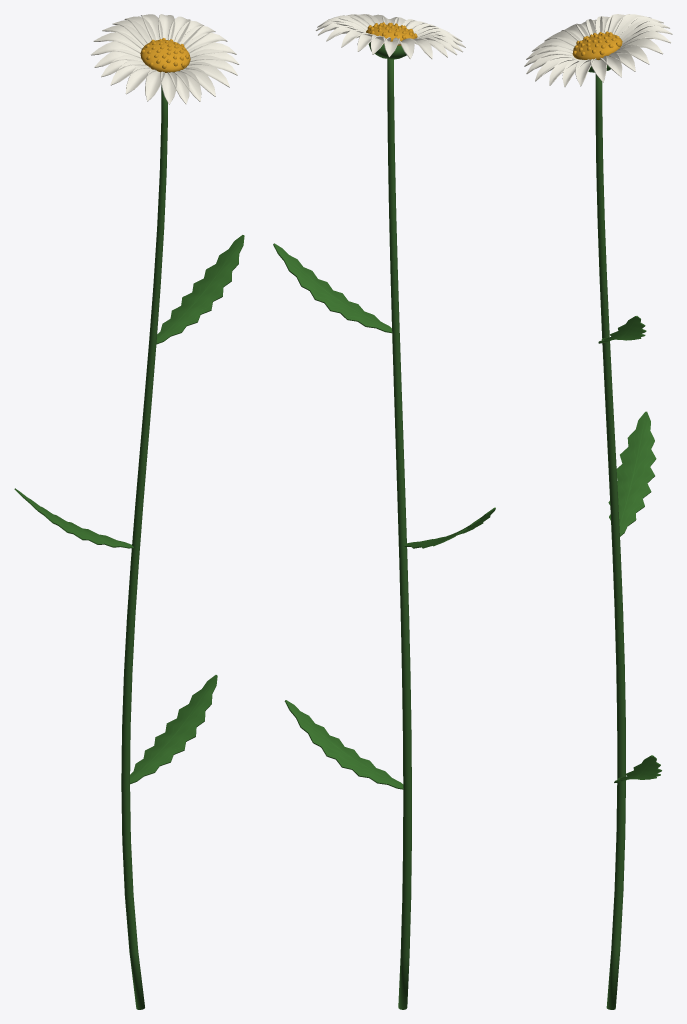
The model's file is daisy.glb.
3 renders of one model, left to right at view 1: azimuth 30°, elevation 25°; view 2: azimuth 150°, elevation 25°; view 3: azimuth 270°, elevation 25°, orthographic.
Parts seen in each view (by area): view 1: Cut stem, Daisy small stalk leaf 1, Daisy small stalk leaf 3, Daisy small stalk leaf 2, Daisy Composite convex disc receptacle; view 2: Cut stem, Daisy small stalk leaf 3, Daisy small stalk leaf 1, Daisy small stalk leaf 2; view 3: Cut stem, Daisy small stalk leaf 2, Daisy Composite convex disc receptacle, Daisy small stalk leaf 1, Daisy small stalk leaf 3.
Boxes of the visible parts, x1,y1,x2,y2 form: Cut stem: (121,85,167,1009); Daisy small stalk leaf 1: (130,675,217,784); Daisy small stalk leaf 3: (156,235,244,344); Daisy small stalk leaf 2: (14,488,133,548); Daisy Composite convex disc receptacle: (140,40,190,72); Cut stem: (387,59,411,1009); Daisy small stalk leaf 3: (273,243,392,333); Daisy small stalk leaf 1: (284,700,403,789); Daisy small stalk leaf 2: (403,507,495,548); Cut stem: (595,74,625,1009); Daisy small stalk leaf 2: (608,411,656,536); Daisy Composite convex disc receptacle: (572,33,622,59); Daisy small stalk leaf 1: (614,755,661,782); Daisy small stalk leaf 3: (598,316,646,343).
Bounding box in the file's own units: 0.087 × 0.3592 × 0.0489.
4 materials, 4 textured.
